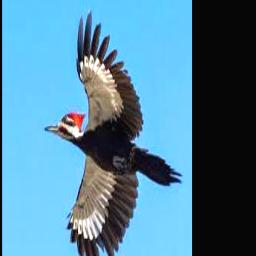Woodpecker: (44, 7, 183, 256)
